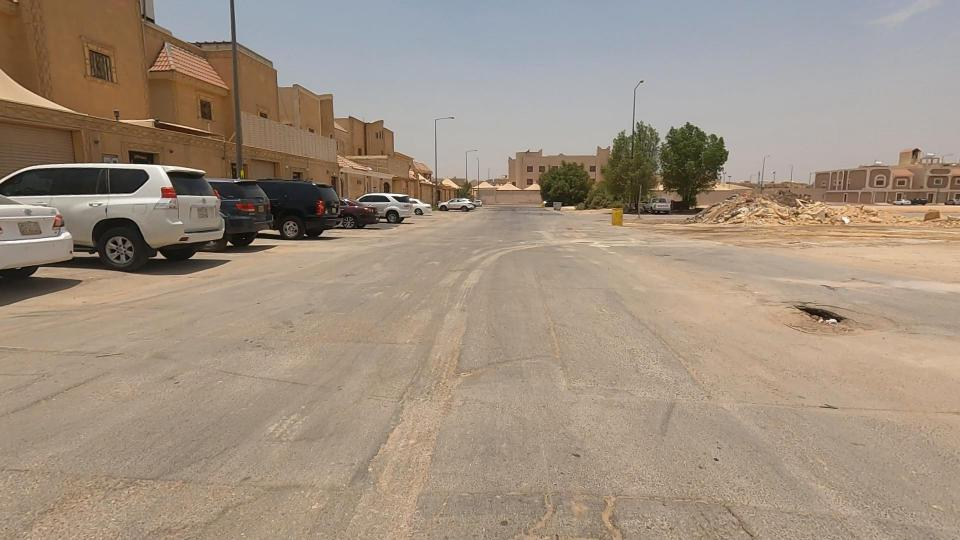GARBAGE: (804, 186, 880, 254)
POTHOLES: (695, 243, 919, 388)
SAND_ON_ROAD: (665, 171, 815, 255)
